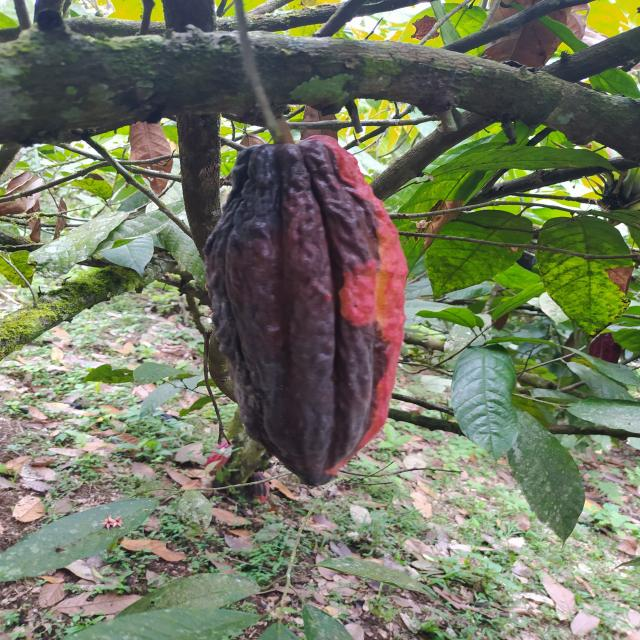Fitoftora: (201, 135, 408, 489), (247, 472, 272, 504)
Monilia: (204, 440, 232, 476)
